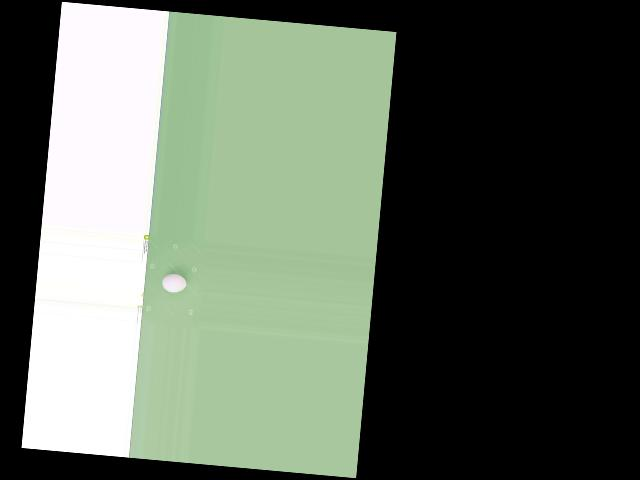egg: (161, 273, 186, 293)
